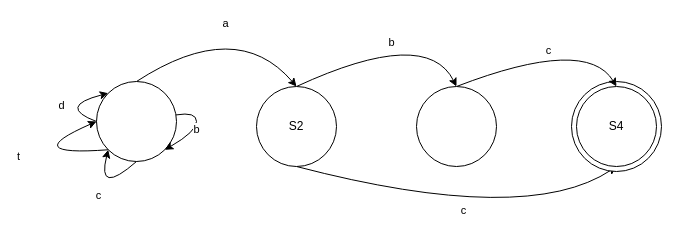
The diagram is 680 pixels wide and 234 high, and some of its shapes have lost their labels. The box of each missing label's shape, as (x1, y1, x2, y2) in pixels:
S1: (96, 80, 176, 162)
S3: (416, 86, 496, 166)
